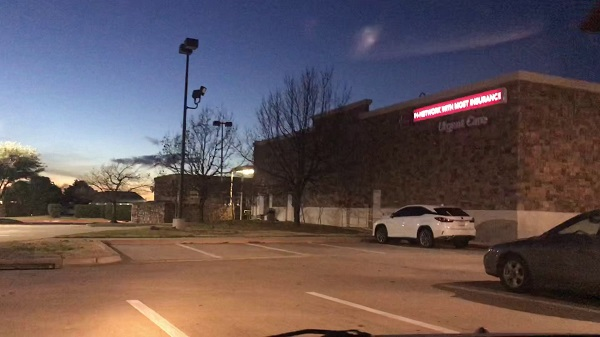car: (482, 210, 600, 297), (368, 200, 478, 248)
